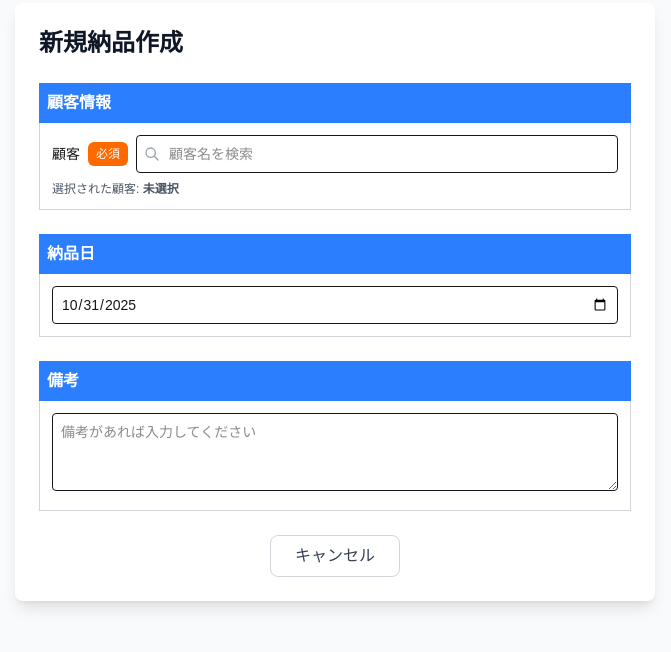
Test case: DeliveryAddPage › shows message when customer has no undelivered products
Click the field with placeholder "顧客名を検索" at (377, 154), box [136,135,618,173]
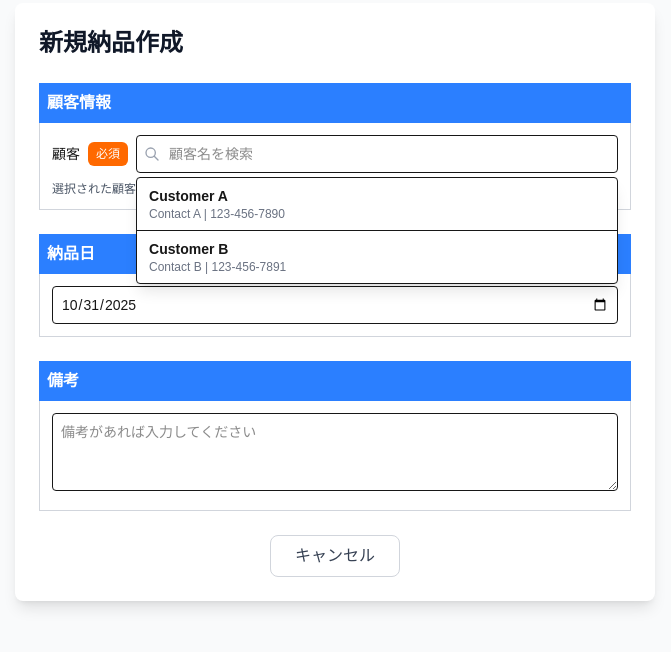
Now the text "Customer A" is shown
Click the text "Customer A" at (188, 196), box [149,188,228,204]
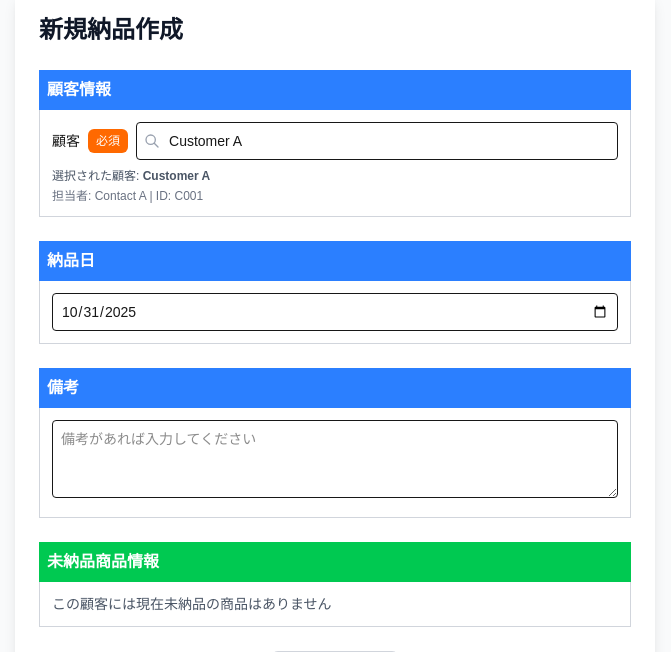
Now the text "この顧客には現在未納品の商品はありません" is shown, box [52,596,332,612]
